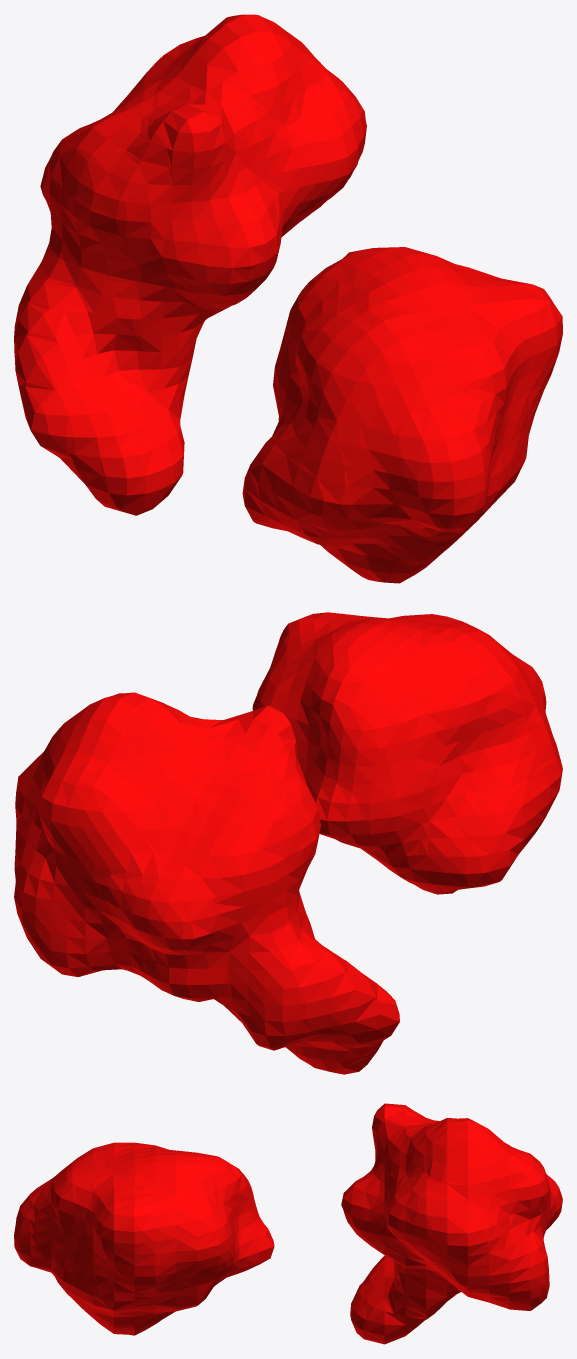
The model's file is baeR_coarse.dae.
The picture shows the model from 3 angles, top to bottom: view 1: azimuth 30°, elevation 25°; view 2: azimuth 150°, elevation 25°; view 3: azimuth 270°, elevation 25°; orthographic projection. The views are drawn at different scales.
Visible parts, largest first — view 1: baeR; view 2: baeR; view 3: baeR.
Part boxes in pixels (x1,y1,x2,y2): baeR: [14, 14, 562, 583]; baeR: [14, 612, 562, 1074]; baeR: [14, 1103, 562, 1344].
Size of the model in its own units: 48.48 by 51 by 90.7.
